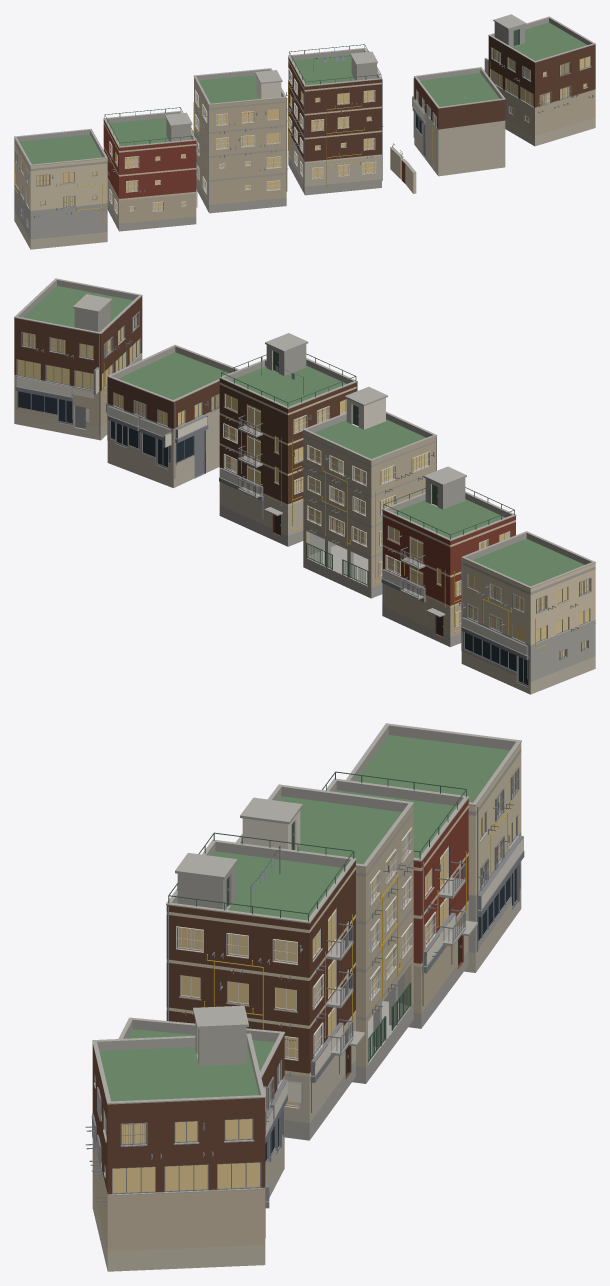
File: Z1_HoomunN.fbx
The picture shows the model from 3 angles, top to bottom: view 1: azimuth 30°, elevation 25°; view 2: azimuth 150°, elevation 25°; view 3: azimuth 270°, elevation 25°; orthographic projection. The views are drawn at different scales.
Visible parts, largest first — view 1: villa_002_LOD0, villa_003_LOD0, shop_000_LOD0, shop_005_LOD0, villa_004_LOD0, shop_001_LOD0, villa_002_Detail_LOD0, villa_003_Detail_LOD0, WinLit_HoomunN_t04, shop_000_Detail_LOD0, villa_004_Detail_LOD0, Fences_HoomunN_LOD0 (+7 smaller); view 2: villa_003_LOD0, shop_005_LOD0, villa_002_LOD0, shop_000_LOD0, villa_004_LOD0, shop_001_LOD0, villa_003_Detail_LOD0, villa_002_Detail_LOD0, WinLit_HoomunN_t07, shop_005_Detail_LOD0, WinLit_HoomunN_t03, WinLit_HoomunN_t05 (+9 smaller); view 3: shop_000_LOD0, villa_002_LOD0, villa_003_LOD0, shop_005_LOD0, villa_004_LOD0, shop_001_LOD0, villa_002_Detail_LOD0, villa_003_Detail_LOD0, WinLit_HoomunN_t03, WinLit_HoomunN_t06, WinLit_HoomunN_t02, shop_005_Detail_LOD0 (+6 smaller).
Boxes of the visible parts, box(x1,y1,x2,y2) form: villa_002_LOD0: box(288, 44, 382, 195); villa_003_LOD0: box(193, 68, 286, 213); shop_000_LOD0: box(484, 14, 595, 146); shop_005_LOD0: box(14, 128, 107, 249); villa_004_LOD0: box(103, 107, 196, 231); shop_001_LOD0: box(412, 67, 505, 176); villa_002_Detail_LOD0: box(286, 55, 383, 190); villa_003_Detail_LOD0: box(193, 90, 288, 205); WinLit_HoomunN_t04: box(16, 63, 569, 215); shop_000_Detail_LOD0: box(490, 47, 594, 122); villa_004_Detail_LOD0: box(103, 141, 198, 214); Fences_HoomunN_LOD0: box(390, 147, 416, 193); villa_003_LOD0: box(303, 386, 437, 598); shop_005_LOD0: box(461, 531, 595, 694); villa_002_LOD0: box(219, 333, 357, 546); shop_000_LOD0: box(14, 278, 142, 440); villa_004_LOD0: box(381, 466, 516, 647); shop_001_LOD0: box(107, 344, 238, 487); villa_003_Detail_LOD0: box(306, 437, 436, 582); villa_002_Detail_LOD0: box(223, 357, 357, 530); WinLit_HoomunN_t07: box(23, 333, 586, 648); shop_005_Detail_LOD0: box(461, 559, 595, 659); WinLit_HoomunN_t03: box(80, 343, 427, 573); WinLit_HoomunN_t05: box(17, 326, 567, 633); shop_000_LOD0: box(92, 1005, 269, 1271); villa_002_LOD0: box(166, 832, 365, 1140); villa_003_LOD0: box(236, 784, 414, 1083); shop_005_LOD0: box(346, 723, 524, 972); villa_004_LOD0: box(322, 771, 477, 1028); shop_001_LOD0: box(118, 1017, 302, 1197); villa_002_Detail_LOD0: box(167, 845, 352, 1108); villa_003_Detail_LOD0: box(369, 827, 414, 1014); WinLit_HoomunN_t03: box(112, 855, 392, 1193); WinLit_HoomunN_t06: box(225, 861, 484, 1139); WinLit_HoomunN_t02: box(165, 847, 447, 1190); shop_005_Detail_LOD0: box(477, 767, 519, 951).
Size of what is drawn, in the model's own units: 65.22 by 19.35 by 24.92.
